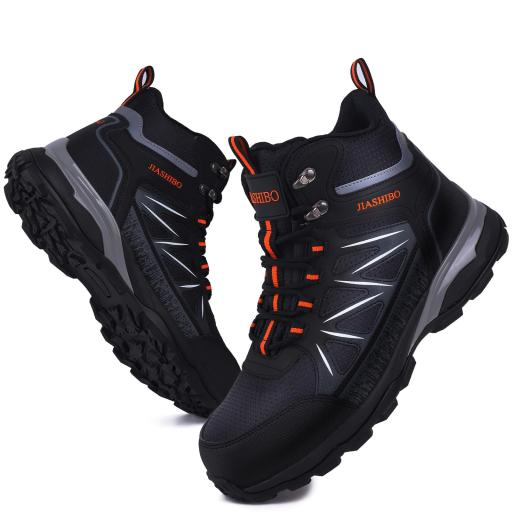safety_boots: (203, 198, 478, 496), (3, 128, 244, 395)
